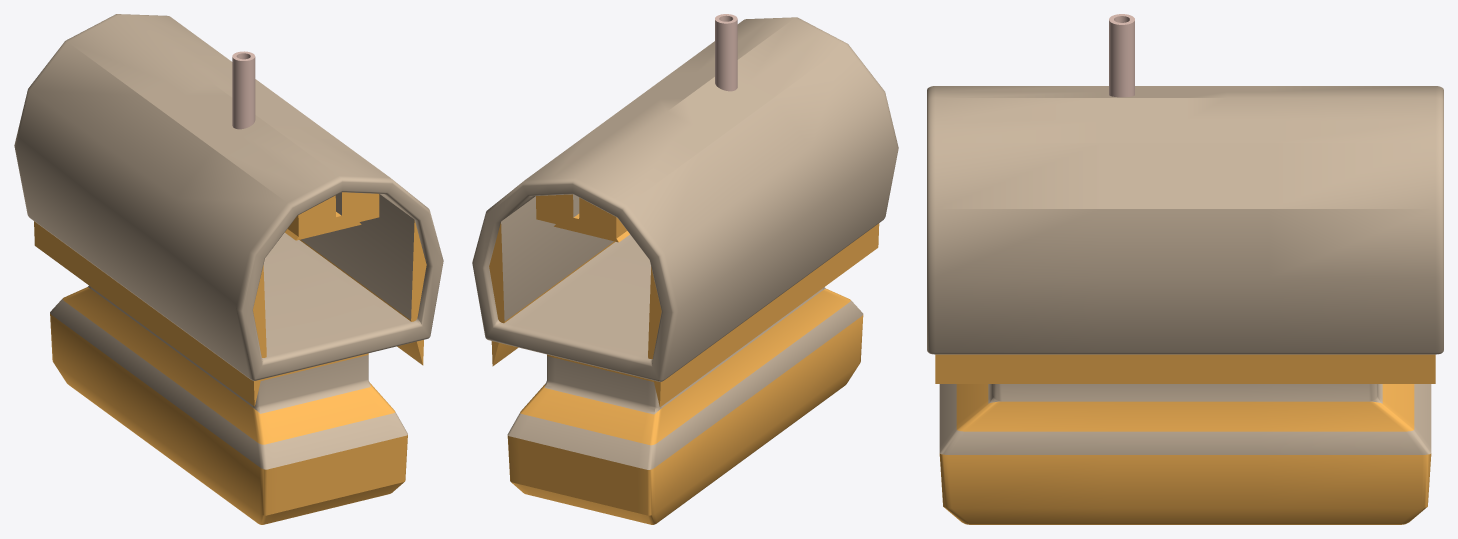
Rendered from dumanl_makine.fbx.
The picture shows the model from 3 angles, left to right: view 1: azimuth 30°, elevation 25°; view 2: azimuth 150°, elevation 25°; view 3: azimuth 270°, elevation 25°; orthographic projection. The views are drawn at different scales.
Parts seen in each view (by area): view 1: Cylinder.034; view 2: Cylinder.034; view 3: Cylinder.034.
Boxes of the visible parts, bbox=[...] form: Cylinder.034: bbox=[14, 14, 443, 524]; Cylinder.034: bbox=[472, 14, 898, 524]; Cylinder.034: bbox=[927, 14, 1443, 524].
Bounding box in the file's own units: 41.25 × 77.87 × 78.78.
